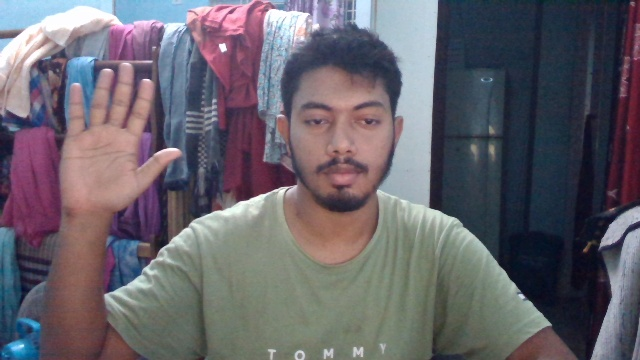hello: (58, 61, 185, 214)
